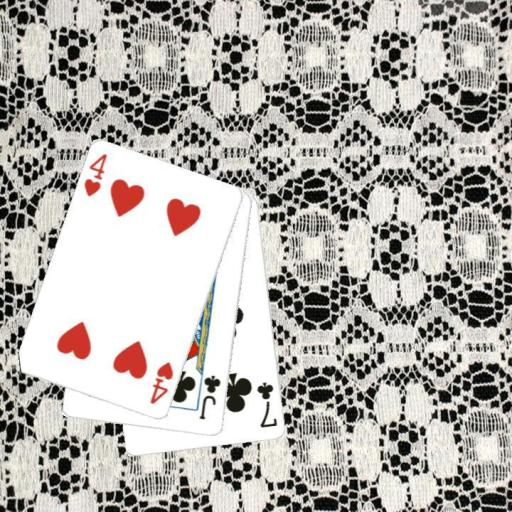4H: (146, 359, 175, 406), (81, 151, 109, 198)
7C: (254, 379, 279, 430)
JC: (196, 373, 223, 422)
